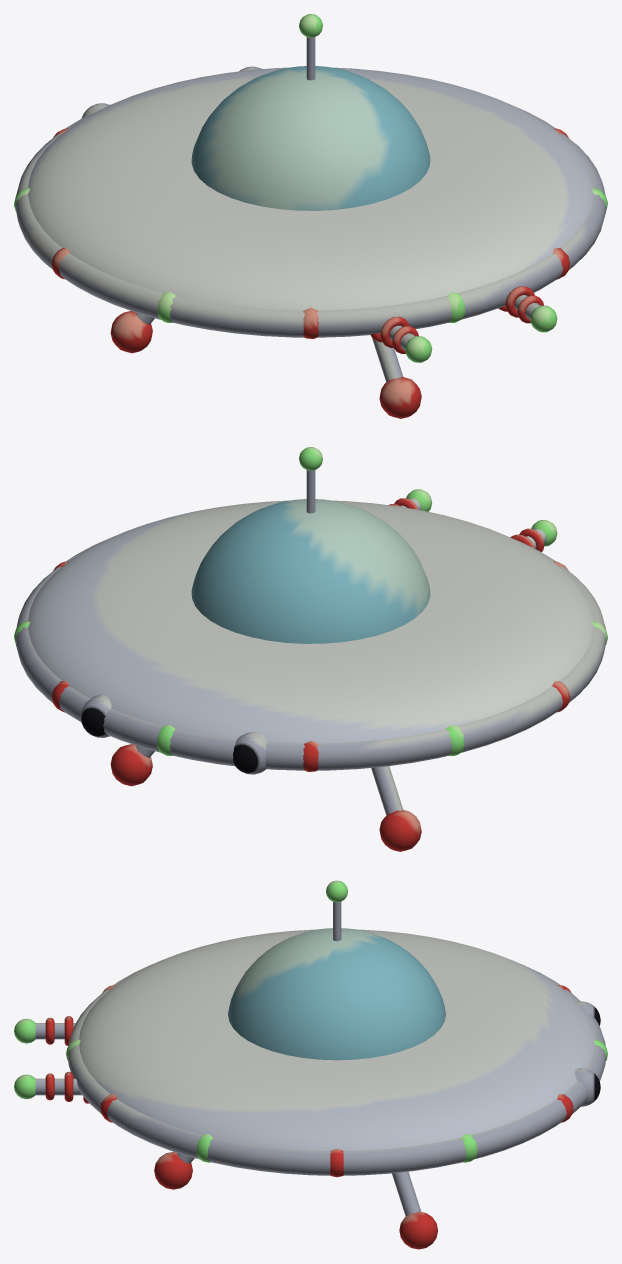
File: atomic-saucer-starfighter.obj
3 views of the same model, one above another, from view 1: azimuth 30°, elevation 25°; view 2: azimuth 150°, elevation 25°; view 3: azimuth 270°, elevation 25° (orthographic). The views are drawn at different scales.
Parts seen in each view (by area): view 1: starfighter; view 2: starfighter; view 3: starfighter.
Part boxes in pixels (box(x1,y1,x2,y2)): starfighter: box(14, 14, 607, 418); starfighter: box(14, 447, 607, 851); starfighter: box(14, 880, 607, 1249).
Size of the model in its own units: 195 by 122 by 214.
